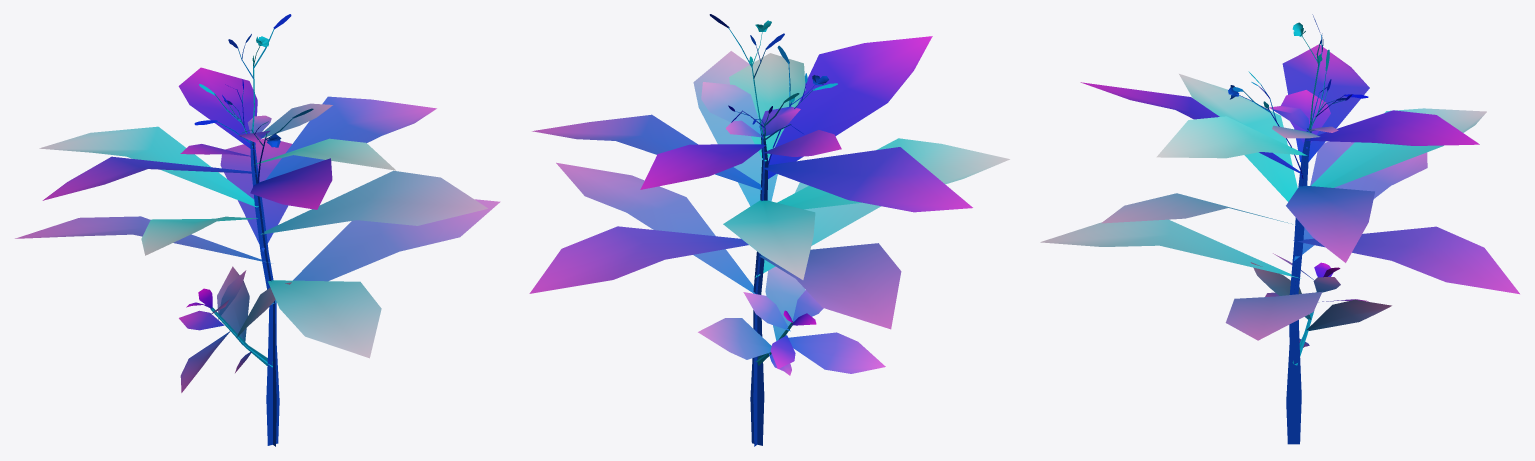
File: xefmcgrqx_VarC_LOD0.fbx
3 views of the same model, side by side, from view 1: azimuth 30°, elevation 25°; view 2: azimuth 150°, elevation 25°; view 3: azimuth 270°, elevation 25° (orthographic). The views are drawn at different scales.
Visible parts, largest first — view 1: _tywj_VarC_LOD3; view 2: _tywj_VarC_LOD3; view 3: _tywj_VarC_LOD3.
Boxes of the visible parts, x1,y1,x2,y2 form: _tywj_VarC_LOD3: (15,14,500,446); _tywj_VarC_LOD3: (529,14,1009,446); _tywj_VarC_LOD3: (1040,14,1519,444).
Size of the model in its own units: 48.93 by 45.09 by 46.9.
